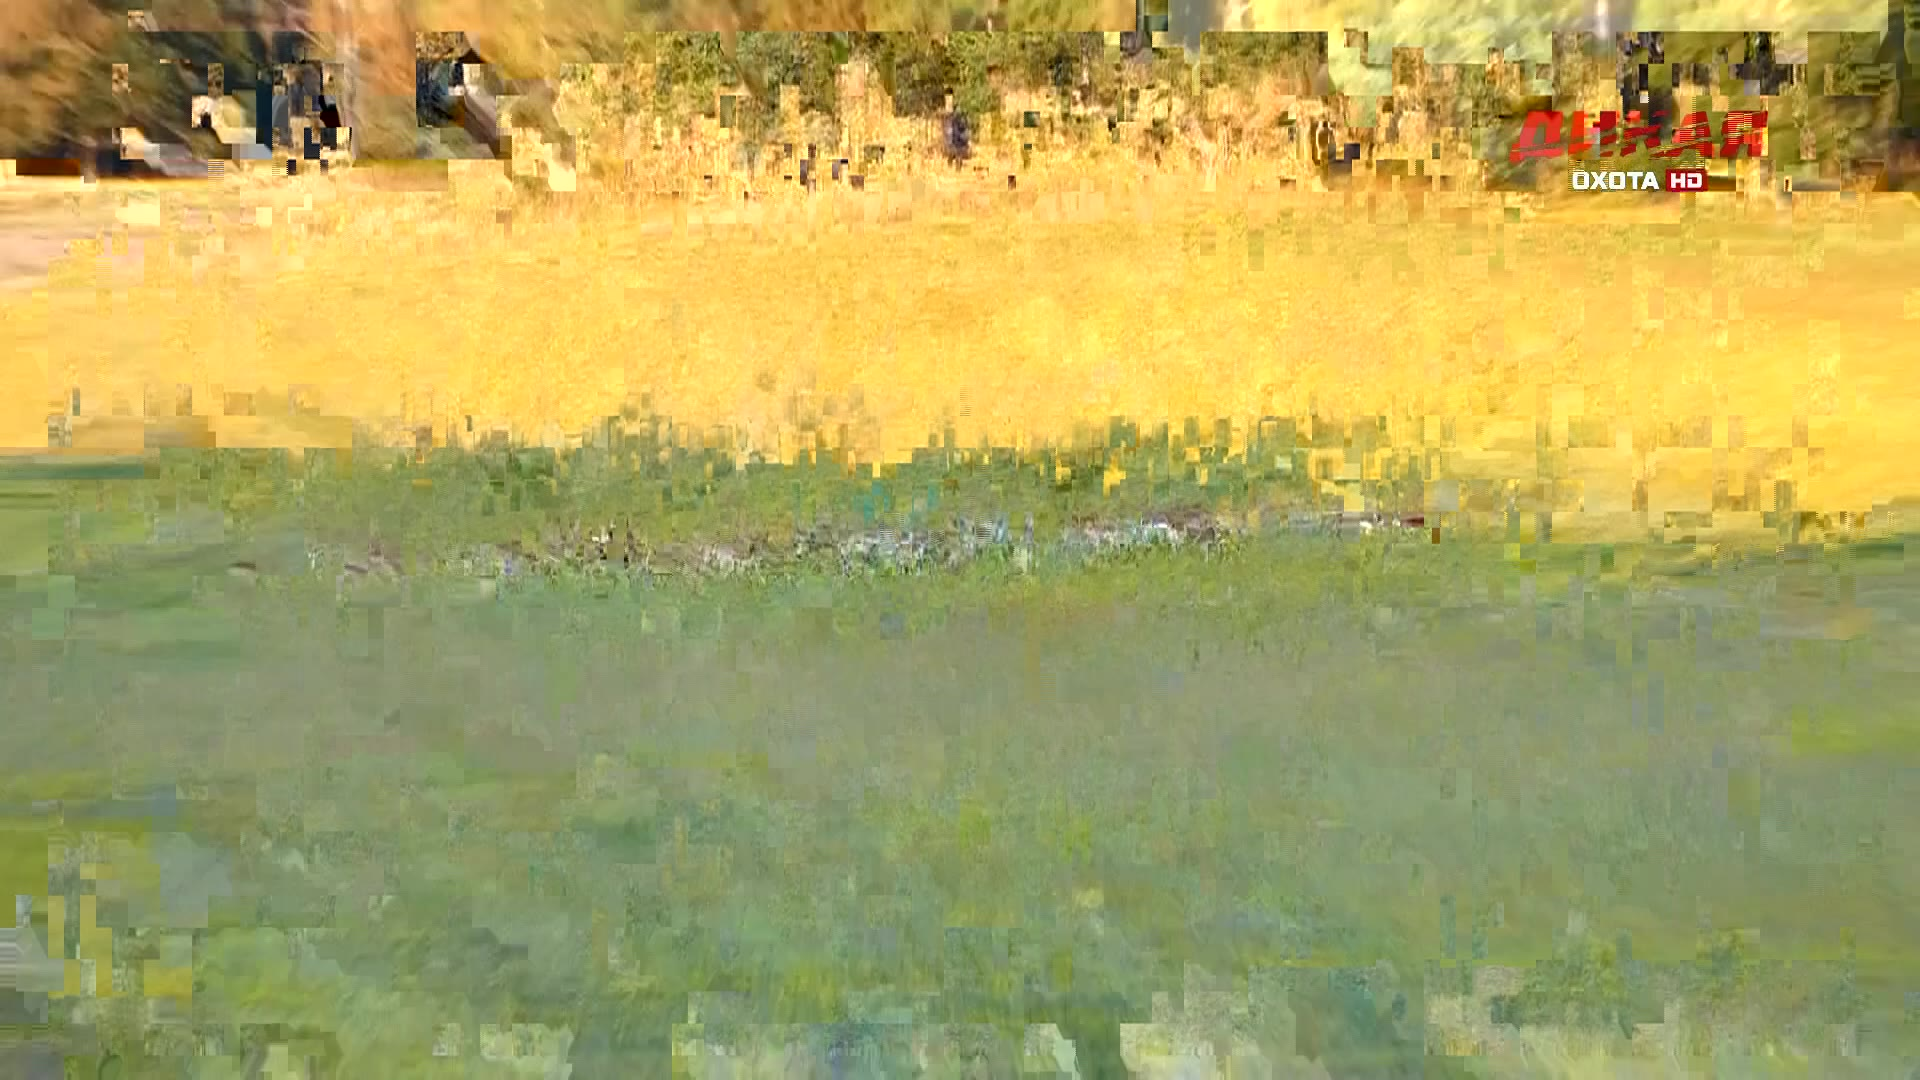Dikaya_Ohota_HD: (1506, 105, 1770, 196)
